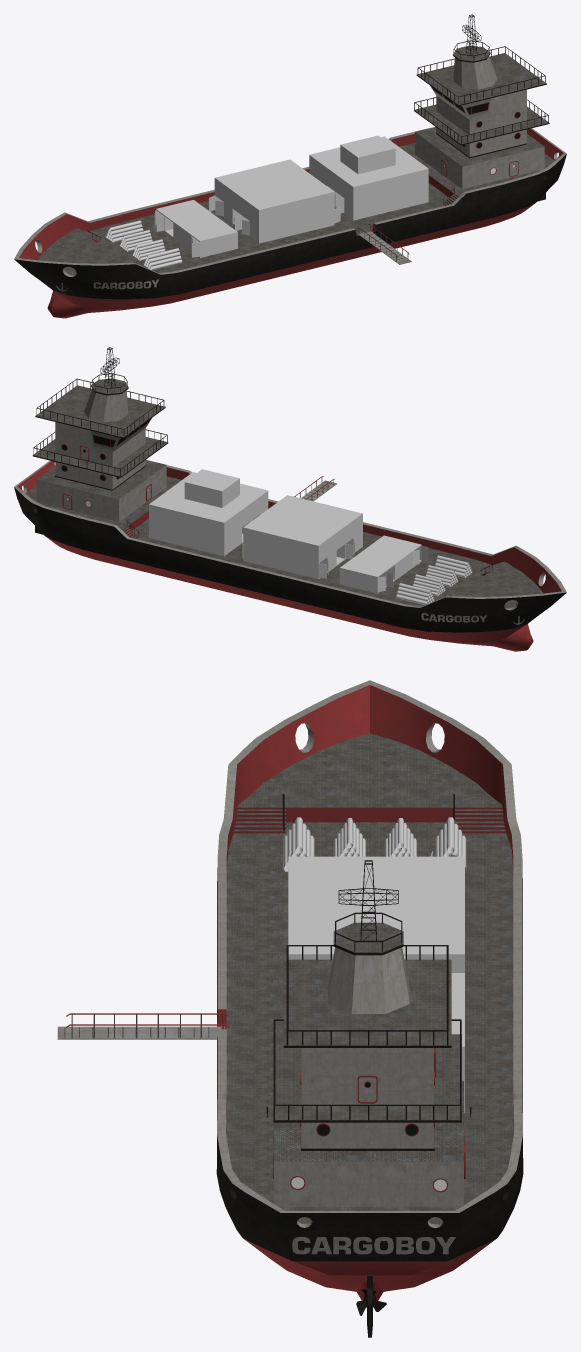
Rendered from Ship.fbx.
3 renders of one model, top to bottom at view 1: azimuth 30°, elevation 25°; view 2: azimuth 150°, elevation 25°; view 3: azimuth 270°, elevation 25°, orthographic. The views are drawn at different scales.
Visible parts, largest first — view 1: CShipFront, CShipCockpit, Container.034, Container.009, Container.006, CShipCockpitWall6.001, Container.007, CShipRear.001, Trap, LabPipe1c.009, LabPipe1c.003, LabPipe1b.001 (+1 smaller); view 2: CShipFront, CShipCockpit, Container.034, Container.009, Container.006, CShipCockpitWall6.001, Container.007, CShipRear.001, LabPipe1c.003, LabPipe1c.009, LabPipe1b.001, LabPipe1b.009 (+1 smaller); view 3: CShipFront, CShipCockpit, Container.034, CShipCockpitWall6.001, Container.006, CShipRear.001, Trap, LabPipe1c.009, Container.009, LabPipe1c.003, LabPipe1b.009, LabPipe1b.001.
Part boxes in pixels (x1,y1,x2,y2): CShipFront: [14, 127, 566, 318]; CShipCockpit: [414, 14, 549, 158]; Container.034: [208, 159, 340, 243]; Container.009: [309, 136, 428, 220]; Container.006: [154, 200, 237, 257]; CShipCockpitWall6.001: [415, 132, 544, 189]; Container.007: [340, 135, 395, 174]; CShipRear.001: [415, 127, 544, 166]; Trap: [357, 224, 411, 264]; LabPipe1c.009: [144, 248, 182, 270]; LabPipe1c.003: [106, 220, 143, 242]; LabPipe1b.001: [120, 230, 152, 251]; CShipFront: [14, 460, 566, 651]; CShipCockpit: [32, 347, 168, 490]; Container.034: [242, 495, 362, 579]; Container.009: [149, 472, 268, 556]; Container.006: [339, 535, 428, 593]; CShipCockpitWall6.001: [36, 465, 166, 521]; Container.007: [184, 469, 239, 507]; CShipRear.001: [37, 460, 166, 499]; LabPipe1c.003: [396, 583, 434, 604]; LabPipe1c.009: [435, 555, 472, 577]; LabPipe1b.001: [413, 574, 445, 596]; LabPipe1b.009: [425, 565, 458, 586]; CShipFront: [216, 680, 523, 1337]; CShipCockpit: [273, 860, 461, 1150]; Container.034: [288, 880, 464, 972]; CShipCockpitWall6.001: [273, 1127, 465, 1206]; Container.006: [288, 851, 464, 880]; CShipRear.001: [274, 1081, 463, 1161]; Trap: [57, 1013, 228, 1039]; LabPipe1c.009: [283, 817, 314, 871]; Container.009: [451, 973, 464, 1113]; LabPipe1c.003: [435, 817, 466, 870]; LabPipe1b.009: [333, 818, 365, 856]; LabPipe1b.001: [384, 818, 416, 856].
Size of the model in its own units: 8604 by 3157 by 3263.
